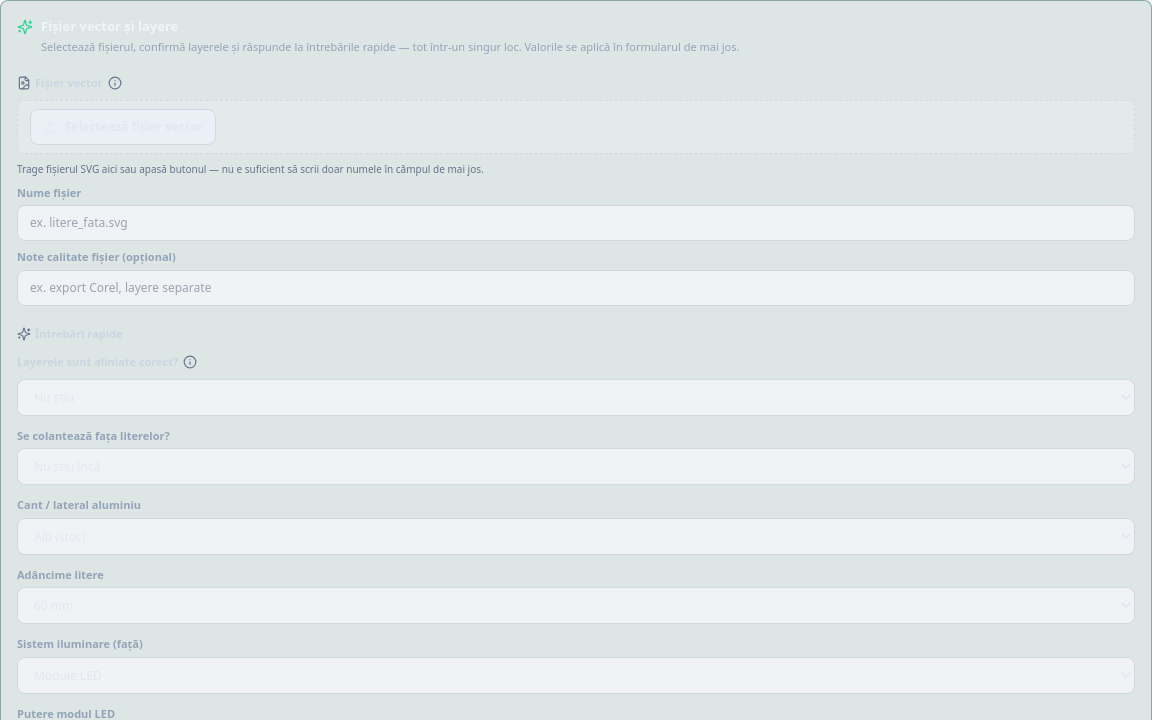
Test: VectorIntakeFastAskPanel › disables apply until filename provided
Type "litere.svg" into the field with test id "vector-fast-ask-filename".
click(576, 223); type("litere.svg")  # box [17,205,1135,241]
(page scrolled)
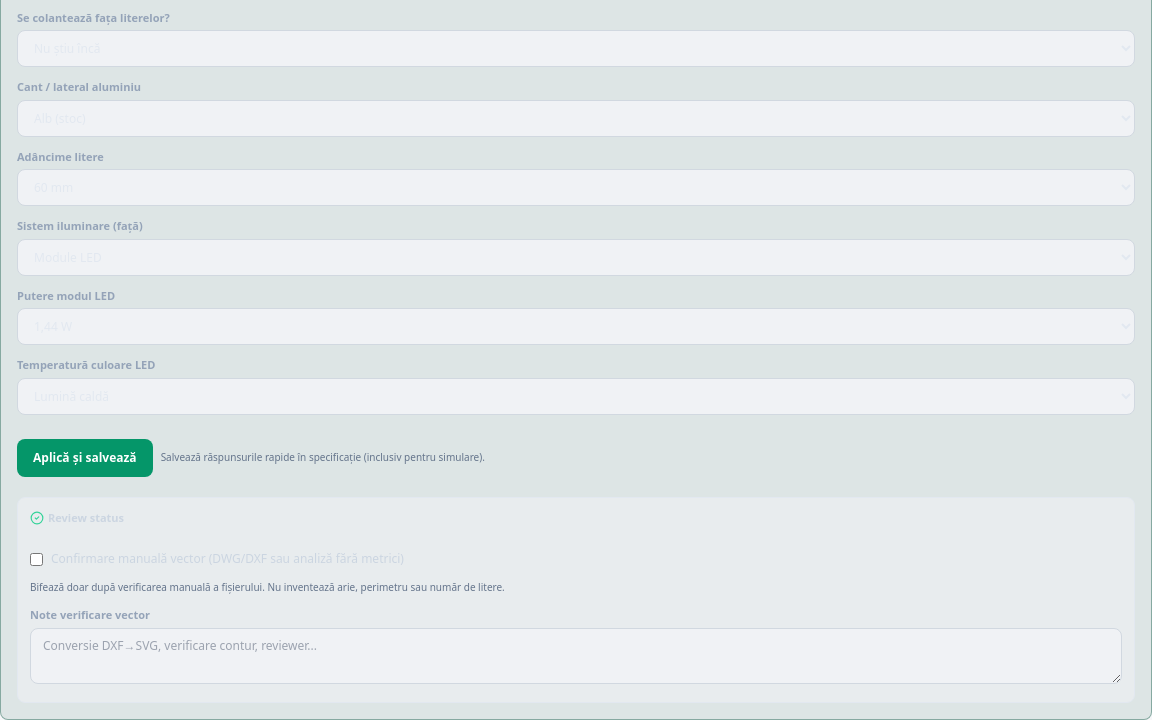
Now the button with test id "vector-fast-ask-apply" is enabled, box [17,438,153,476]
